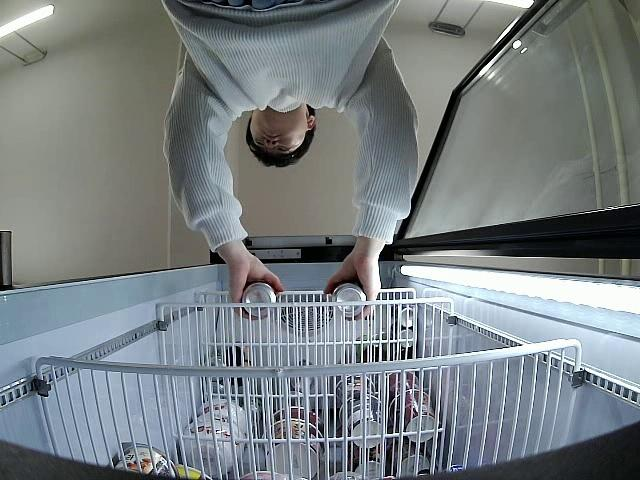00_hand: (228, 255, 284, 321), (324, 262, 382, 320)
11_cocaColaZero: (242, 277, 279, 319), (331, 276, 367, 319)
